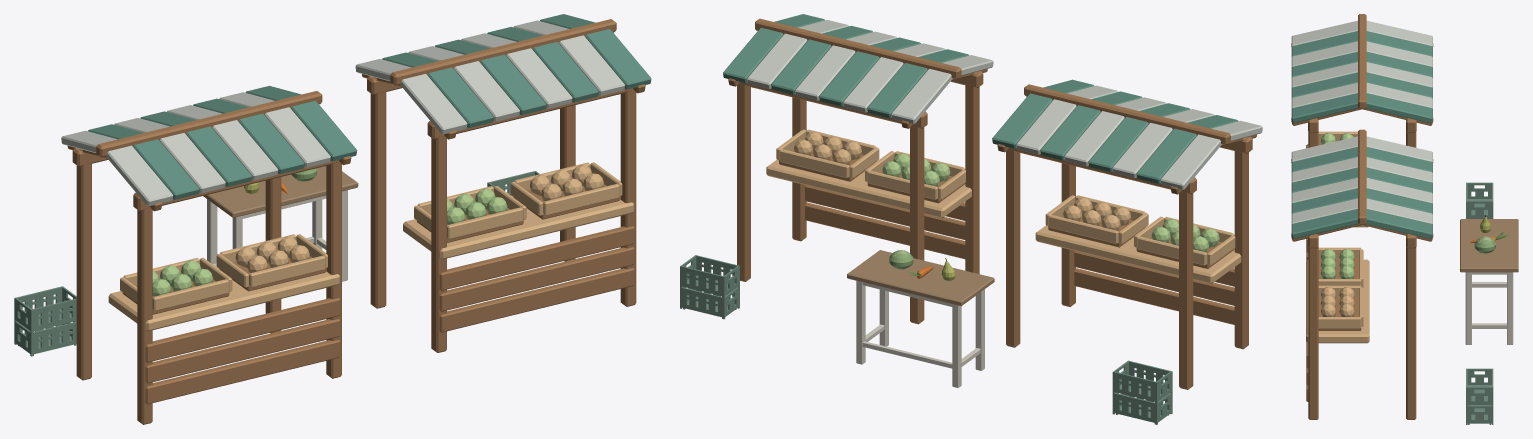
3 renders of one model, left to right at view 1: azimuth 30°, elevation 25°; view 2: azimuth 150°, elevation 25°; view 3: azimuth 270°, elevation 25°, orthographic. The views are drawn at different scales.
Visible parts, largest first — view 1: east_stall__village-market-stall-01, west_stall__village-market-stall-01, backstock_table__Complete work surface, west_crate_upper__Crate continuous ventilated shell feet and, west_crate_lower__Crate continuous ventilated shell feet and, backstock_table__Worktable leg.001; view 2: west_stall__village-market-stall-01, east_stall__village-market-stall-01, backstock_table__Complete work surface, west_crate_upper__Crate continuous ventilated shell feet and, east_crate_upper__Crate continuous ventilated shell feet and, west_crate_lower__Crate continuous ventilated shell feet and, east_crate_lower__Crate continuous ventilated shell feet and, backstock_table__Worktable leg.001, backstock_table__Worktable leg.003, backstock_table__Worktable leg, backstock_table__Rear lower brace; view 3: east_stall__village-market-stall-01, west_stall__village-market-stall-01, backstock_table__Complete work surface, east_crate_upper__Crate continuous ventilated shell feet and, west_crate_upper__Crate continuous ventilated shell feet and, east_crate_lower__Crate continuous ventilated shell feet and, backstock_table__Worktable leg.002, backstock_table__Worktable leg.003.
Boxes of the visible parts, x1=… form: east_stall__village-market-stall-01: x1=355, y1=14, x2=651, y2=352; west_stall__village-market-stall-01: x1=61, y1=86, x2=357, y2=424; backstock_table__Complete work surface: x1=203, y1=166, x2=358, y2=217; west_crate_upper__Crate continuous ventilated shell feet and: x1=14, y1=286, x2=76, y2=333; west_crate_lower__Crate continuous ventilated shell feet and: x1=14, y1=321, x2=76, y2=356; backstock_table__Worktable leg.001: x1=207, y1=199, x2=217, y2=264; west_stall__village-market-stall-01: x1=992, y1=79, x2=1262, y2=389; east_stall__village-market-stall-01: x1=723, y1=14, x2=993, y2=324; backstock_table__Complete work surface: x1=847, y1=250, x2=994, y2=306; west_crate_upper__Crate continuous ventilated shell feet and: x1=1112, y1=360, x2=1172, y2=403; east_crate_upper__Crate continuous ventilated shell feet and: x1=680, y1=255, x2=739, y2=297; west_crate_lower__Crate continuous ventilated shell feet and: x1=1112, y1=392, x2=1172, y2=424; east_crate_lower__Crate continuous ventilated shell feet and: x1=680, y1=286, x2=739, y2=319; backstock_table__Worktable leg.001: x1=952, y1=304, x2=961, y2=387; backstock_table__Worktable leg.003: x1=856, y1=281, x2=865, y2=364; backstock_table__Worktable leg: x1=975, y1=289, x2=984, y2=370; backstock_table__Rear lower brace: x1=862, y1=341, x2=952, y2=368; east_stall__village-market-stall-01: x1=1291, y1=129, x2=1433, y2=419; west_stall__village-market-stall-01: x1=1291, y1=14, x2=1433, y2=260; backstock_table__Complete work surface: x1=1460, y1=219, x2=1518, y2=272; east_crate_upper__Crate continuous ventilated shell feet and: x1=1466, y1=368, x2=1493, y2=406; west_crate_upper__Crate continuous ventilated shell feet and: x1=1466, y1=182, x2=1493, y2=218; east_crate_lower__Crate continuous ventilated shell feet and: x1=1466, y1=405, x2=1493, y2=424; backstock_table__Worktable leg.002: x1=1465, y1=272, x2=1471, y2=344; backstock_table__Worktable leg.003: x1=1507, y1=272, x2=1513, y2=344.
Size of the model in its own units: 4.96 by 2.35 by 2.33.
